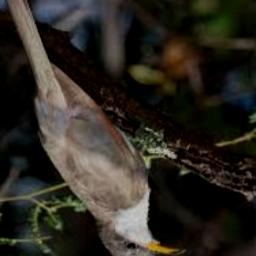Cuckoo: (0, 0, 185, 256)
